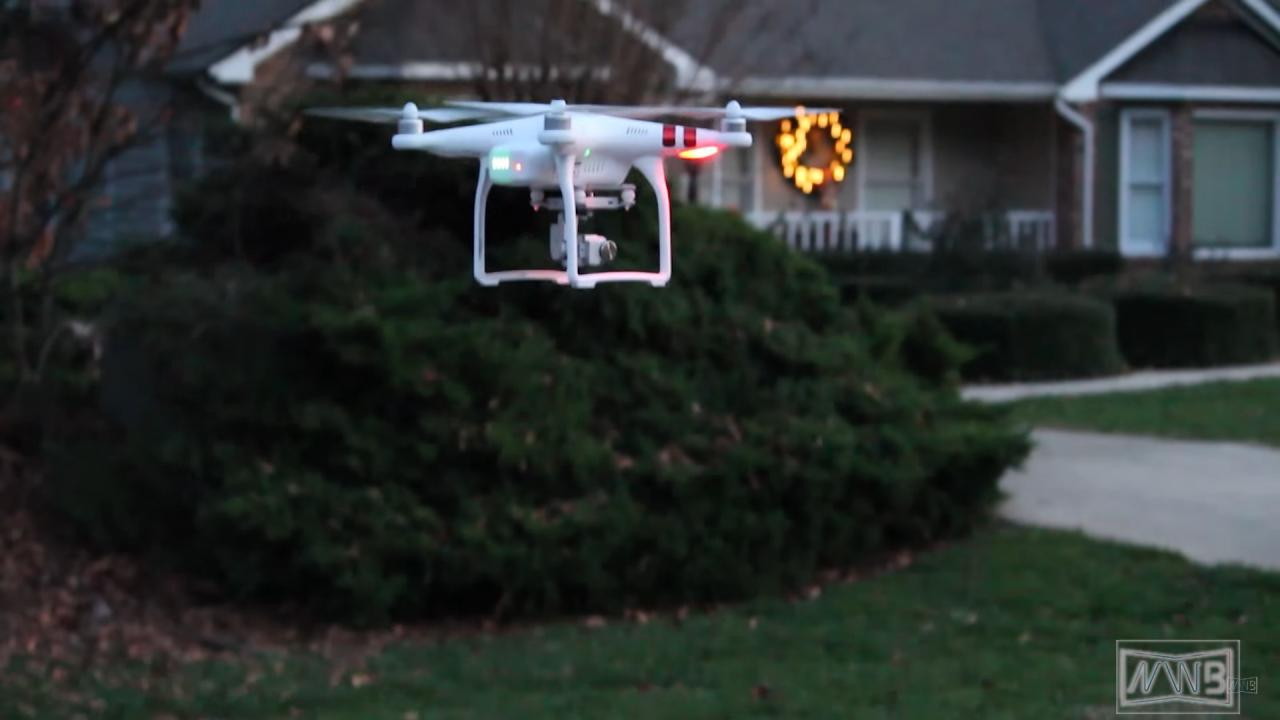Drone: (289, 83, 852, 305)
